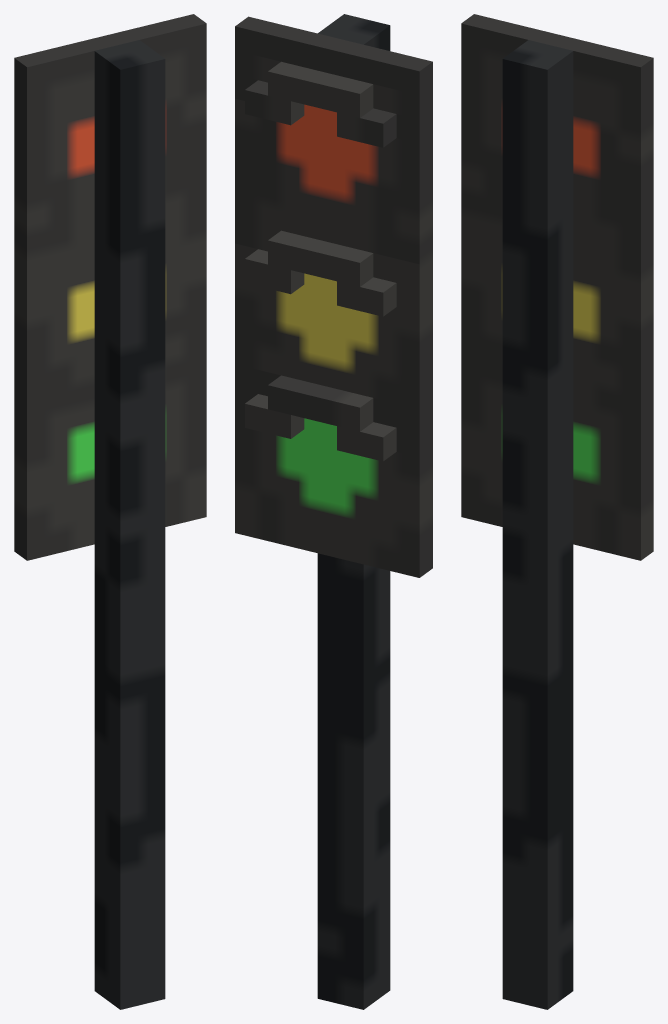
The model's file is Character2_Obstacle3.fbx.
The picture shows the model from 3 angles, left to right: view 1: azimuth 30°, elevation 25°; view 2: azimuth 150°, elevation 25°; view 3: azimuth 330°, elevation 25°; orthographic projection. The views are drawn at different scales.
Visible parts, largest first — view 1: Matrix; view 2: Matrix; view 3: Matrix.
Part boxes in pixels (x1,y1,x2,y2): Matrix: [14, 14, 206, 1009]; Matrix: [235, 14, 432, 1009]; Matrix: [461, 14, 653, 1009].
Size of the model in its own units: 8 by 40 by 4.
1 material, 1 textured.
